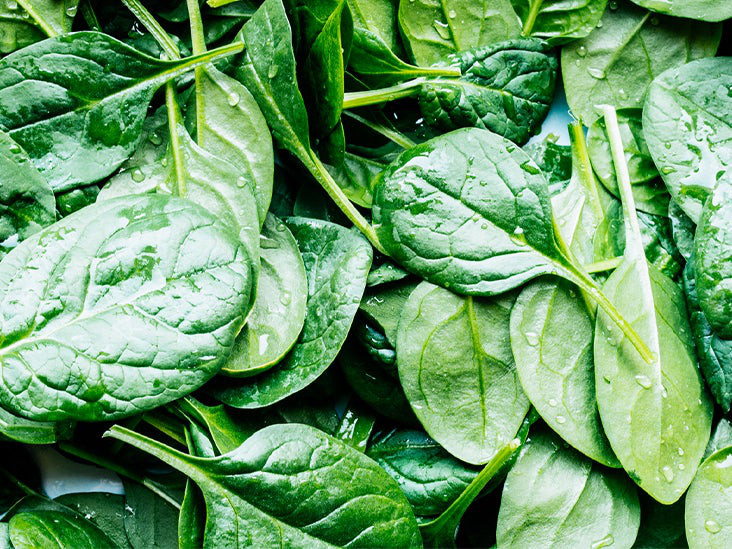Bayam: (5, 5, 717, 536)
